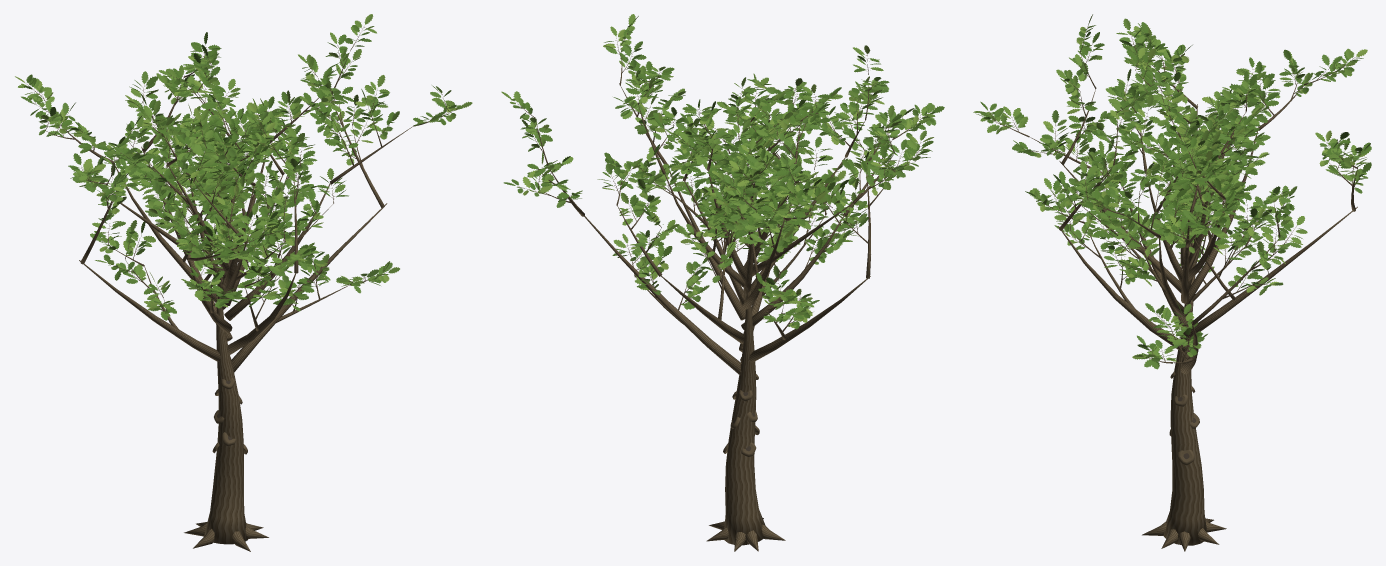
File: Sessile_Oak_Mature_01_MediumPruned_Healed_LOD0.fbx
3 views of the same model, side by side, from view 1: azimuth 30°, elevation 25°; view 2: azimuth 150°, elevation 25°; view 3: azimuth 270°, elevation 25° (orthographic).
Visible parts, largest first — view 1: Sessile_Oak_Mature_01_MediumPruned_Healed_LOD0; view 2: Sessile_Oak_Mature_01_MediumPruned_Healed_LOD0, Sessile_Oak_Mature_01_MediumPruned_Healed_LOD0_Scars; view 3: Sessile_Oak_Mature_01_MediumPruned_Healed_LOD0, Sessile_Oak_Mature_01_MediumPruned_Healed_LOD0_Scars.
Boxes of the visible parts, box(x1,y1,x2,y2) form: Sessile_Oak_Mature_01_MediumPruned_Healed_LOD0: box(15, 14, 472, 551); Sessile_Oak_Mature_01_MediumPruned_Healed_LOD0: box(501, 14, 944, 551); Sessile_Oak_Mature_01_MediumPruned_Healed_LOD0_Scars: box(723, 374, 759, 456); Sessile_Oak_Mature_01_MediumPruned_Healed_LOD0: box(973, 14, 1371, 551); Sessile_Oak_Mature_01_MediumPruned_Healed_LOD0_Scars: box(1169, 371, 1199, 465).
Size of the model in its own units: 1589 by 1999 by 1488.
6 materials, 2 textured.
